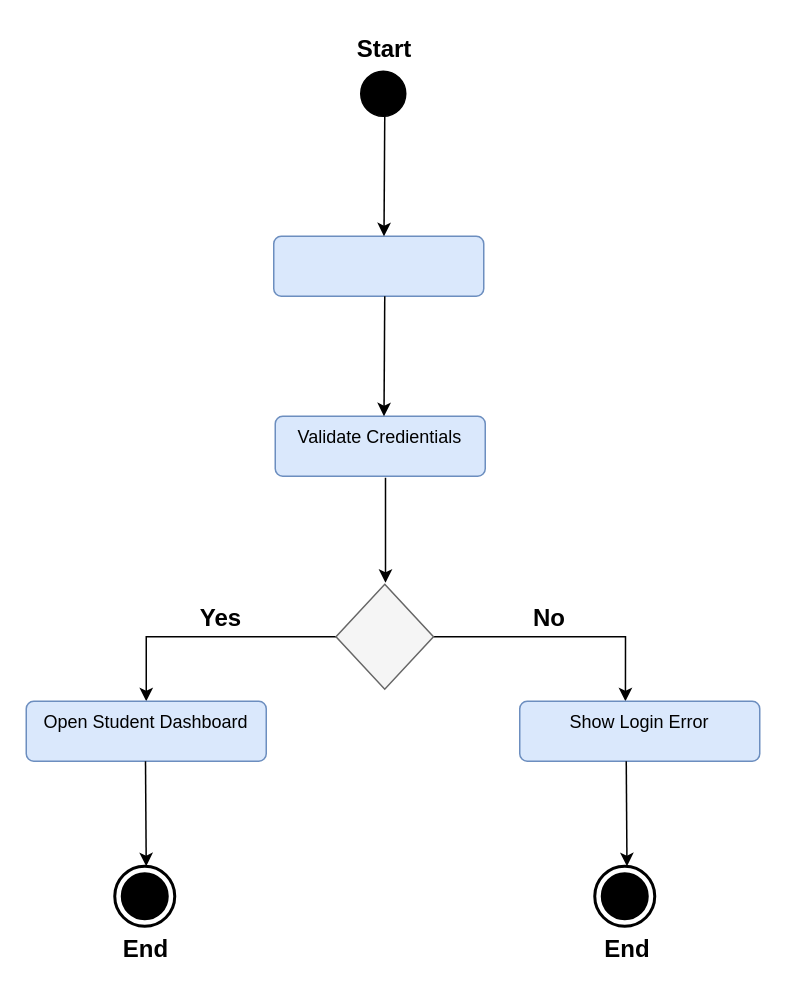
Some shapes in this 786 by 996 pixel diagram are drawn without their labels. The box of each missing label's shape, as (x1, y1, x2, y2) in pixels:
Enter username and password: (272, 235, 484, 296)
Valid?: (334, 583, 434, 689)
